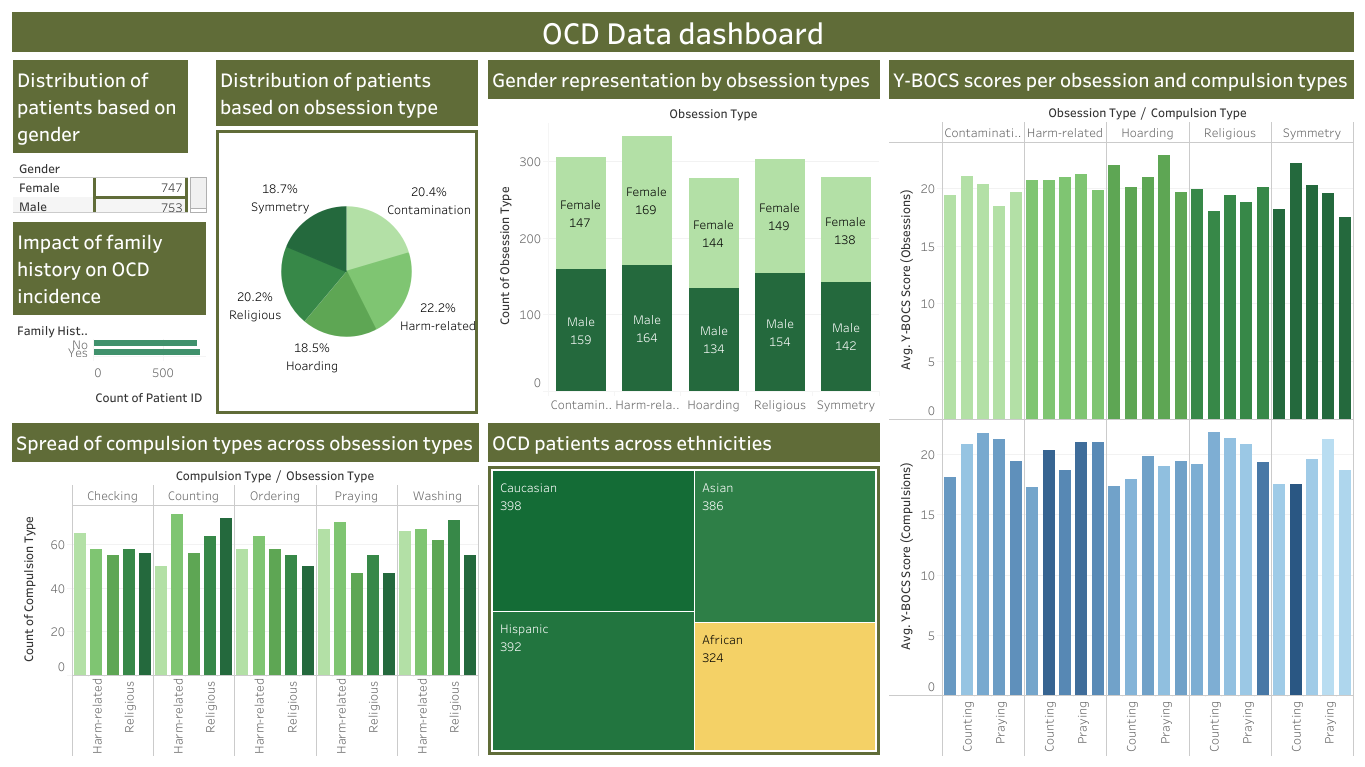

The dashboard page shown, as its layout file describes it:
{"tool":"tableau","page":{"name":"Dashboard 1","canvas":[1366,768],"ordinal":0},"visuals":[{"type":"title","box":[8,8,1350,48]},{"type":"worksheet","title":"Distribution of patients based on gender","mark":"Automatic","rows":["Gender"],"box":[8,56,202.6,161.9]},{"type":"worksheet","title":"Distribution of patients based on obsession type","mark":"Pie","box":[210.6,56,272.4,363]},{"type":"worksheet","title":"Gender representation by obsession types","mark":"Automatic","rows":["Obsession Type"],"cols":["Obsession Type"],"box":[483,56,402,363]},{"type":"worksheet","title":"Y-BOCS scores per obsession and compulsion types","mark":"Automatic","rows":["Y-BOCS Score (Obsessions)","Y-BOCS Score (Compulsions)"],"cols":["Obsession Type","Compulsion Type"],"box":[885,56,473,704]},{"type":"worksheet","title":"Impact of family history on OCD incidence","mark":"Automatic","rows":["Family History of OCD"],"cols":["Patient ID"],"box":[8,217.9,202.6,201.1]},{"type":"worksheet","title":"Spread of compulsion types across obsession types","mark":"Automatic","rows":["Compulsion Type"],"cols":["Compulsion Type","Obsession Type"],"box":[8,419,475,341]},{"type":"worksheet","title":"OCD patients across ethnicities","mark":"Automatic","box":[483,419,402,341]}]}

Visuals, with their boxes in screenshot pixels (x1, y1, x2, y2), scaled from the page's 1366x768 canvas onto the 1365x767 screenshot:
title: bbox(8, 8, 1357, 56)
"Distribution of patients based on gender" worksheet: bbox(8, 56, 210, 218)
"Distribution of patients based on obsession type" worksheet (Pie marks): bbox(210, 56, 483, 418)
"Gender representation by obsession types" worksheet: bbox(483, 56, 884, 418)
"Y-BOCS scores per obsession and compulsion types" worksheet: bbox(884, 56, 1357, 759)
"Impact of family history on OCD incidence" worksheet: bbox(8, 218, 210, 418)
"Spread of compulsion types across obsession types" worksheet: bbox(8, 418, 483, 759)
"OCD patients across ethnicities" worksheet: bbox(483, 418, 884, 759)
